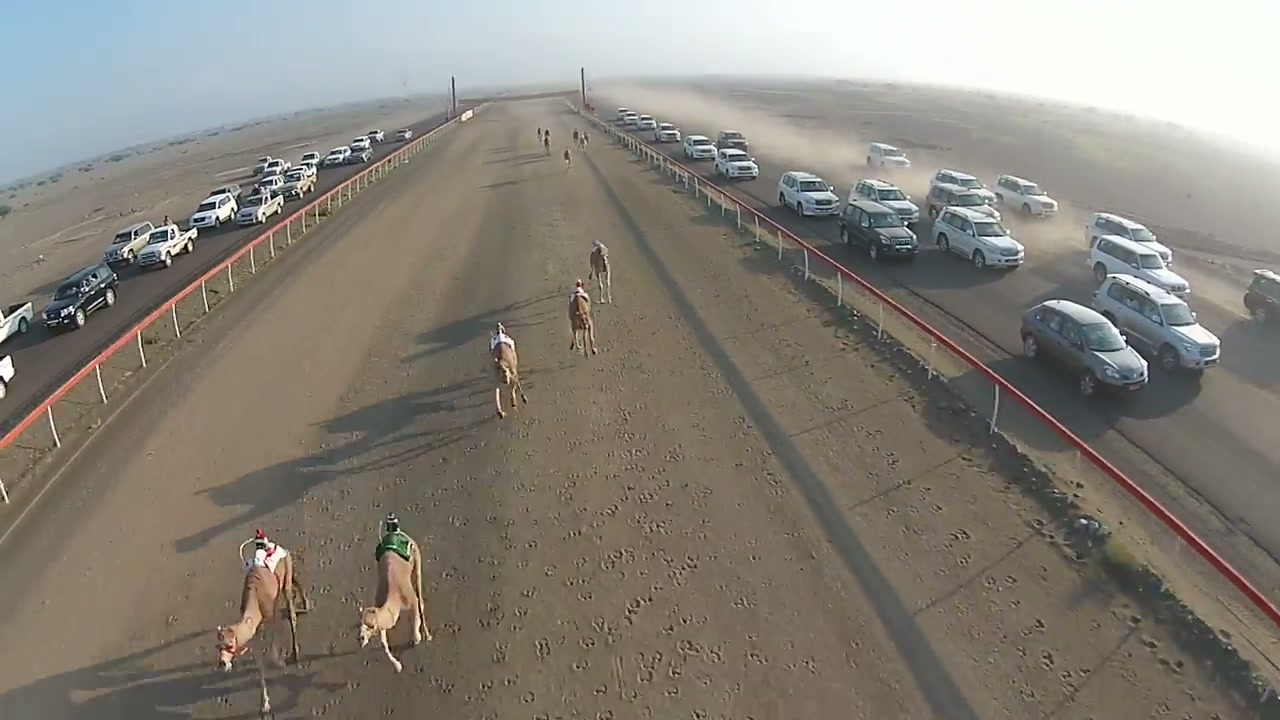animal_footprint: (391, 342, 769, 706)
